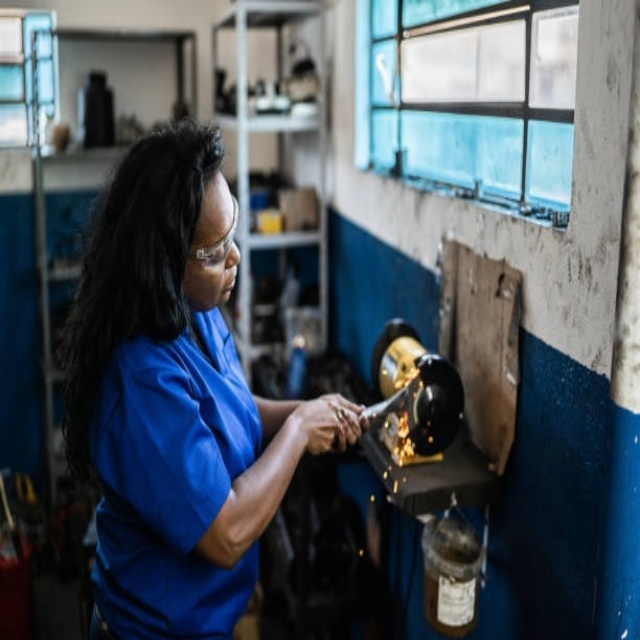Gafas: (188, 194, 241, 266)
Sin_guantes: (302, 393, 366, 457)
Sin_mascara: (203, 262, 242, 311)
